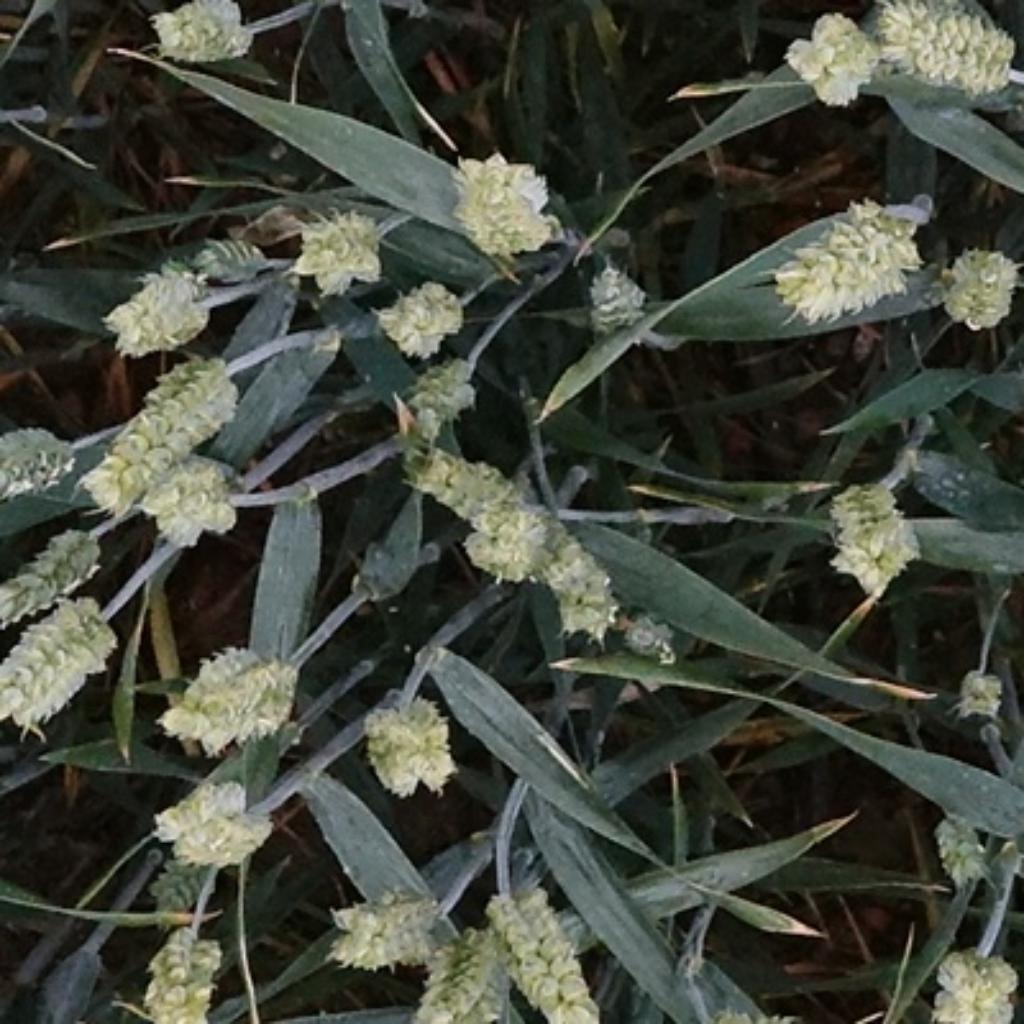0-0: (87, 345, 240, 509), (760, 192, 931, 330), (153, 635, 307, 763), (494, 875, 612, 1024), (867, 0, 1021, 110), (821, 465, 931, 607), (96, 245, 217, 374), (2, 606, 120, 737), (316, 872, 450, 984), (350, 678, 467, 801), (395, 906, 512, 1024), (442, 149, 560, 264), (537, 514, 640, 645), (148, 765, 273, 865), (384, 440, 540, 520), (135, 445, 256, 545), (2, 517, 107, 629), (130, 906, 228, 1024), (281, 197, 386, 304), (777, 10, 880, 112), (907, 935, 1020, 1024), (373, 271, 474, 369), (143, 0, 259, 77), (396, 344, 482, 445), (926, 242, 1018, 335), (570, 248, 652, 349), (450, 524, 536, 602), (929, 801, 998, 895), (2, 427, 84, 506), (189, 225, 275, 297), (949, 657, 1014, 727), (143, 857, 222, 913), (616, 617, 683, 669)
